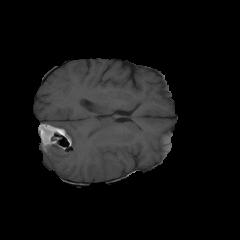glioma: (38, 121, 124, 179)
